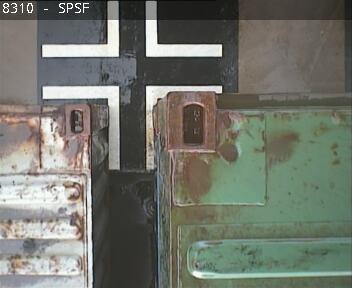groundmarker_1: (41, 85, 221, 169), (41, 1, 221, 59)
